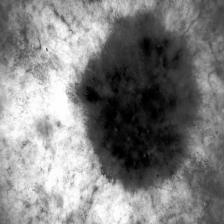Benign Marking or Mole: (86, 21, 199, 183)
